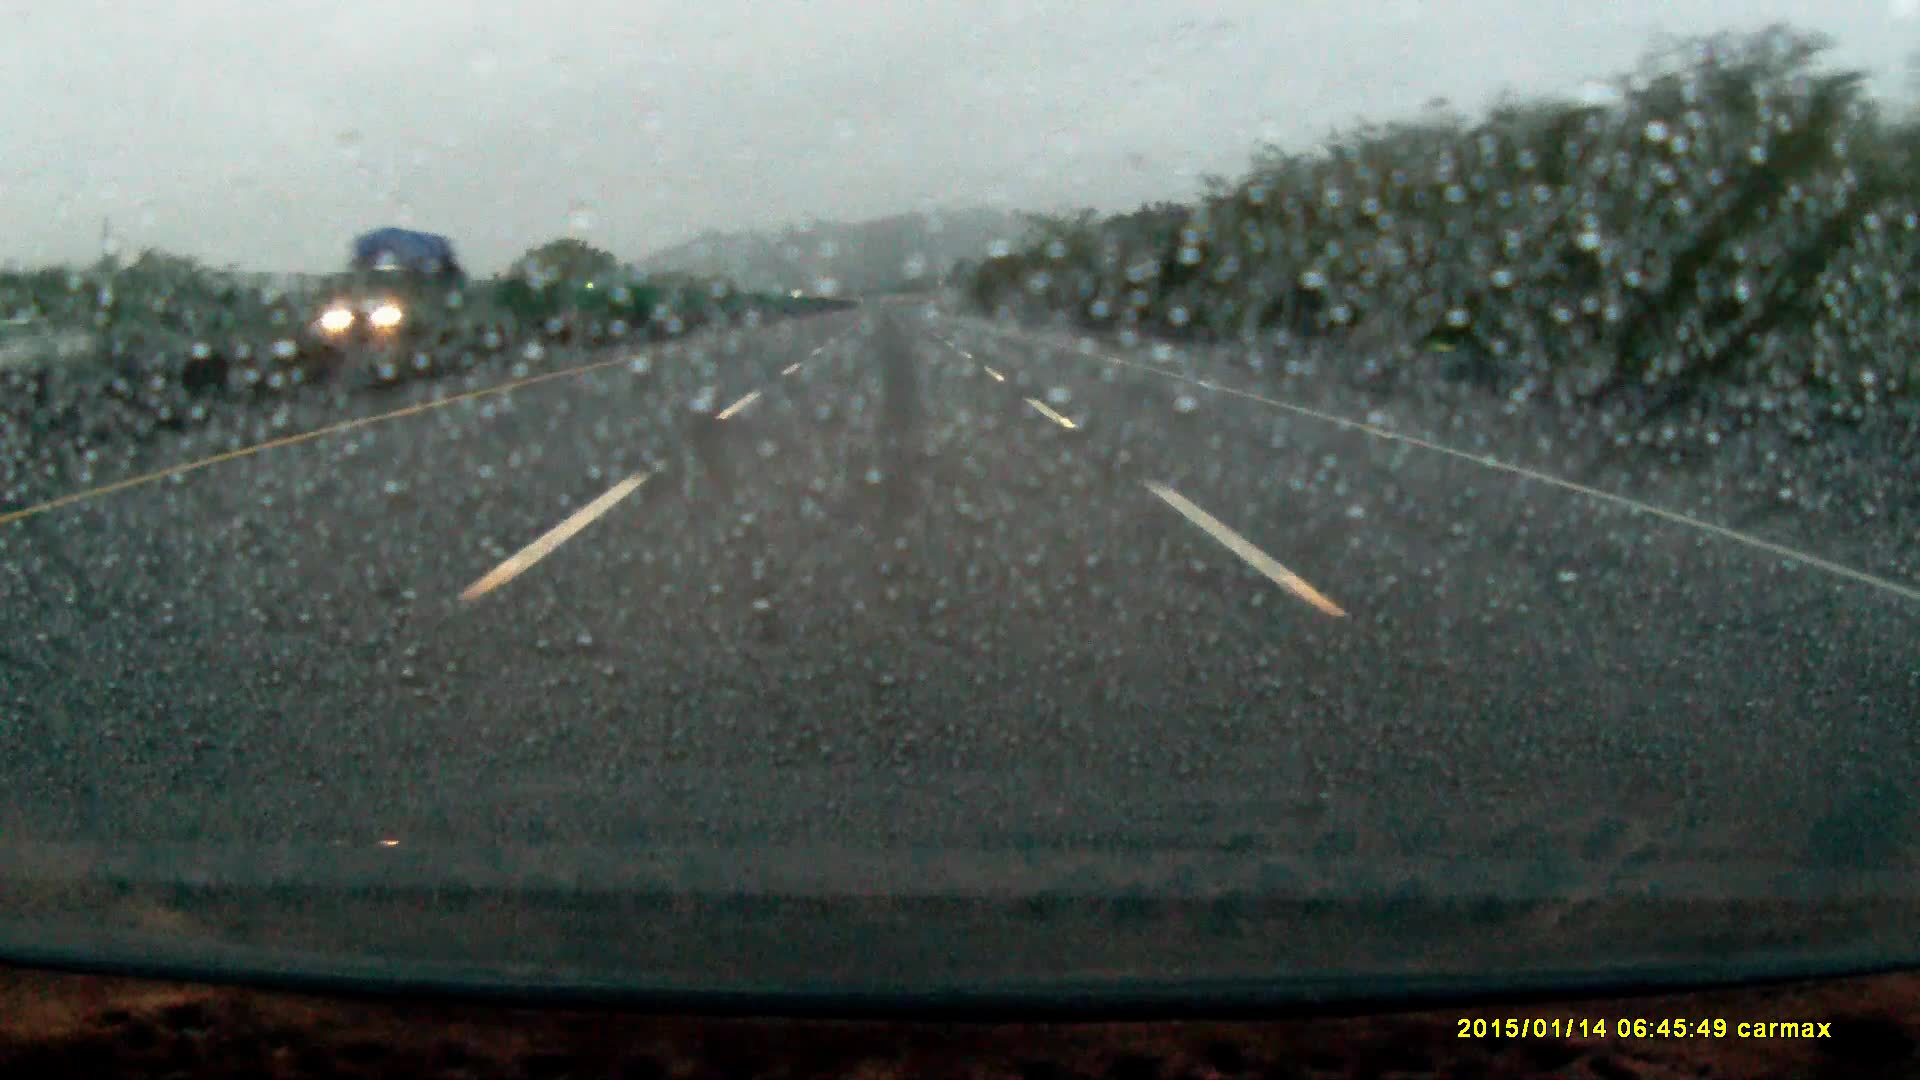vehicle: (328, 231, 446, 339), (568, 266, 645, 327)
